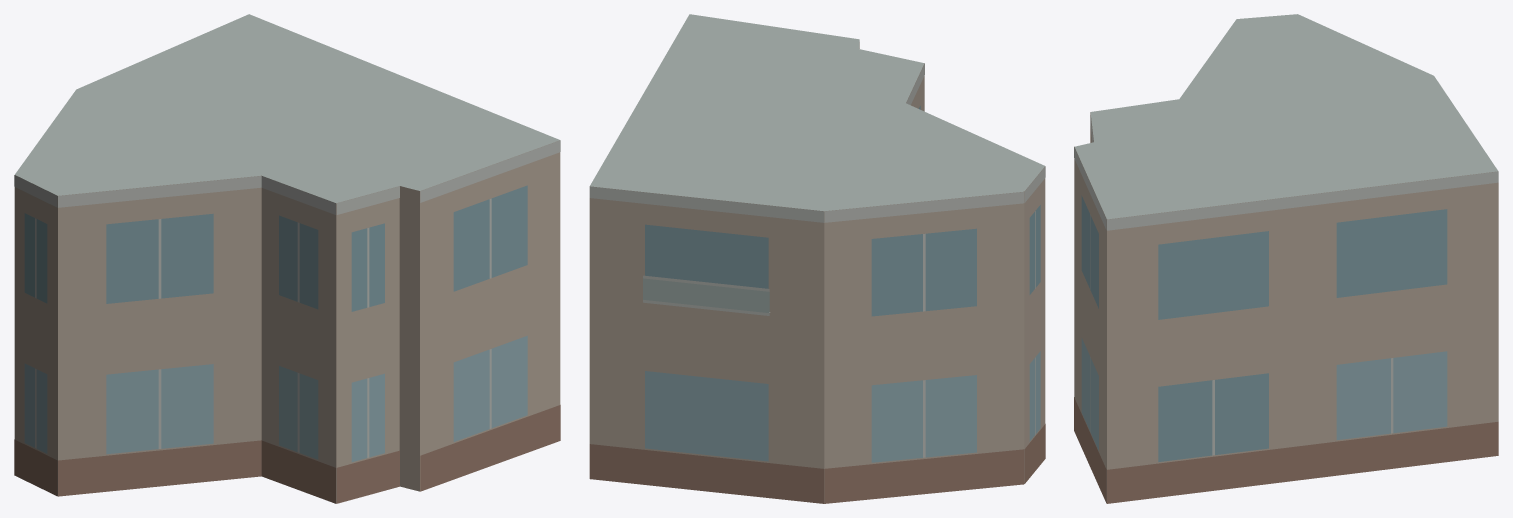
File: survey-upis-32513387.glb
3 views of the same model, side by side, from view 1: azimuth 30°, elevation 25°; view 2: azimuth 150°, elevation 25°; view 3: azimuth 270°, elevation 25° (orthographic). The views are drawn at different scales.
Parts seen in each view (by area): view 1: survey-upis-32513387.tmp; view 2: survey-upis-32513387.tmp; view 3: survey-upis-32513387.tmp.
Part boxes in pixels (box(x1,y1,x2,y2)): survey-upis-32513387.tmp: box(14, 14, 560, 503); survey-upis-32513387.tmp: box(589, 14, 1045, 503); survey-upis-32513387.tmp: box(1074, 14, 1498, 503).
Size of the model in its own units: 9.46 by 6.1 by 8.26.
